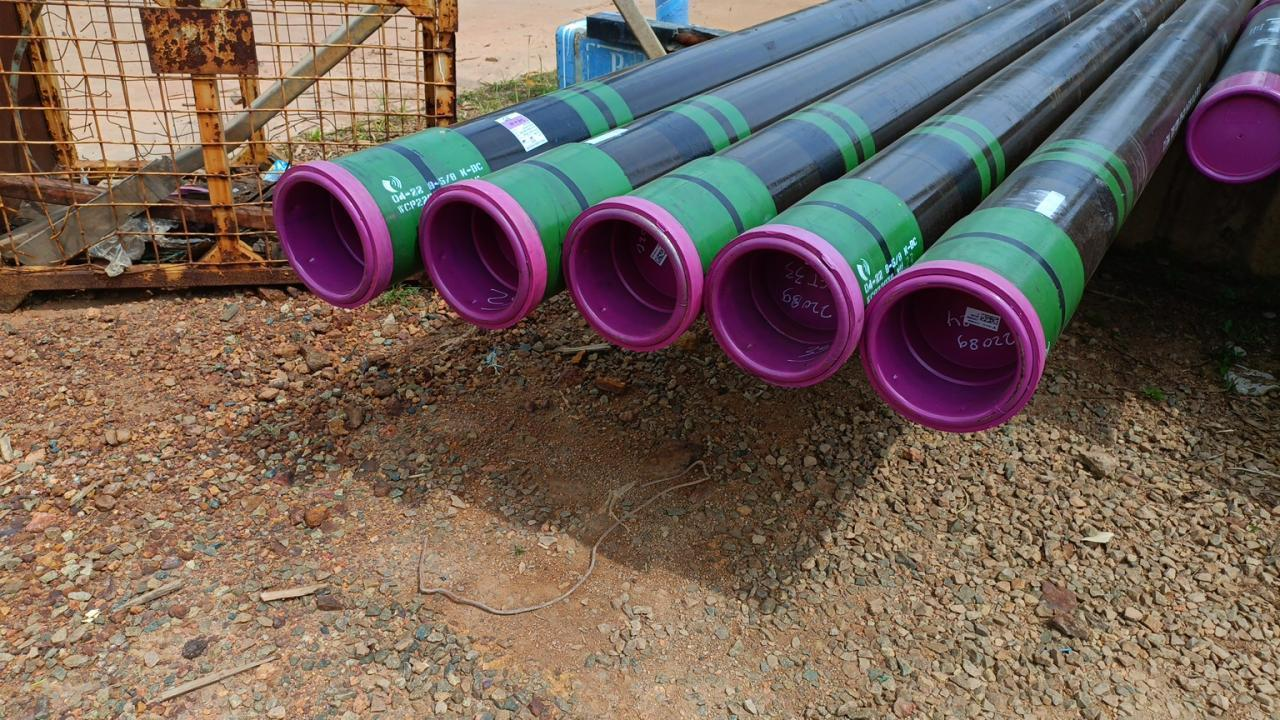pipe: (858, 266, 1040, 434), (703, 229, 857, 389), (562, 201, 694, 353), (418, 184, 536, 330), (271, 164, 380, 310), (1184, 84, 1280, 185)
